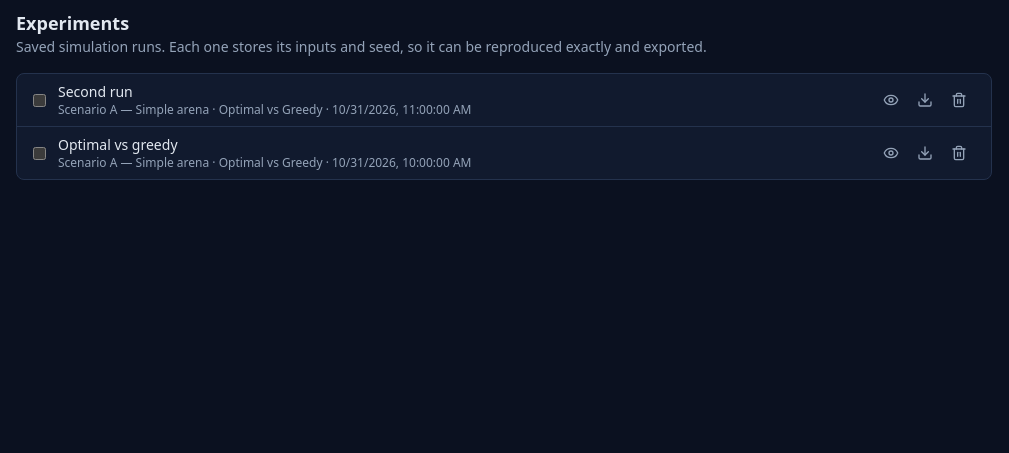
Test: ExperimentsPage › compares two experiments side by side
This screenshot has width=1009, height=453.
Click the checkbox named "Compare Optimal vs greedy" at (40, 153), box [33, 146, 46, 160]
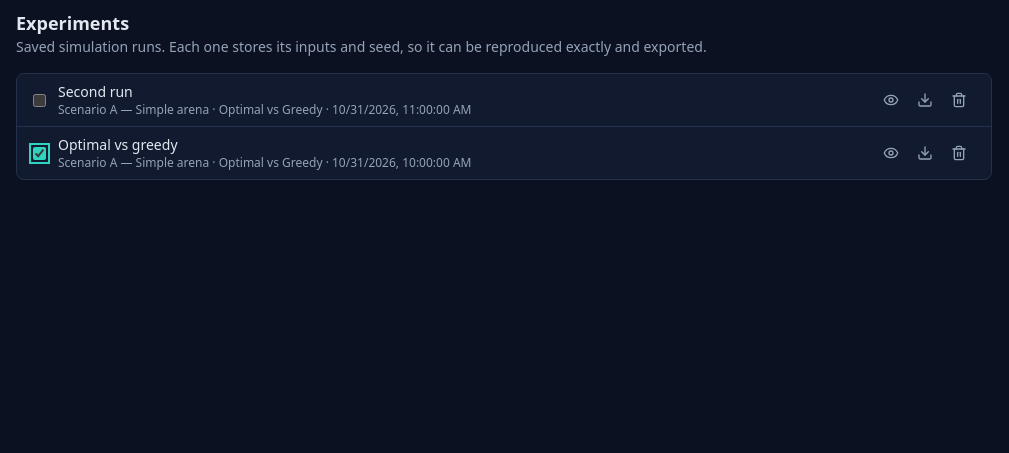
Click the checkbox named "Compare Second run" at (40, 100), box [33, 94, 46, 106]
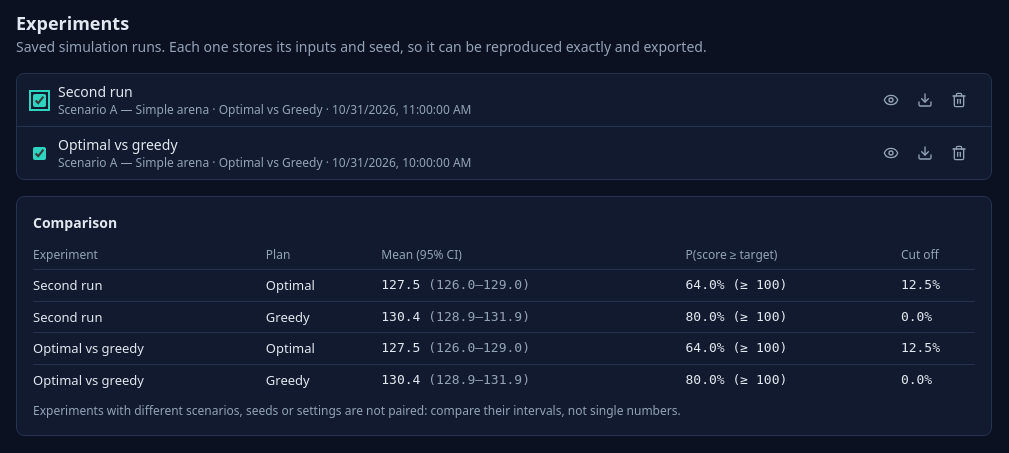
Expected: the number of rows is 5, [33, 241, 975, 270]; [33, 270, 975, 301]; [33, 301, 975, 333]; [33, 333, 975, 364]; [33, 364, 975, 395]
